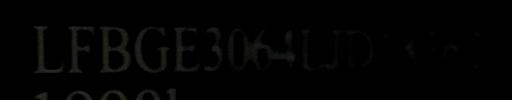letter: (298, 21, 342, 73), (132, 22, 172, 73), (29, 22, 67, 73), (97, 23, 133, 75), (64, 23, 98, 77), (170, 22, 202, 73), (342, 25, 376, 73), (462, 25, 492, 75), (198, 24, 226, 73), (225, 21, 251, 72), (416, 22, 442, 72), (374, 22, 398, 72), (396, 25, 420, 75), (274, 24, 298, 73), (442, 23, 464, 74), (251, 25, 273, 74)
